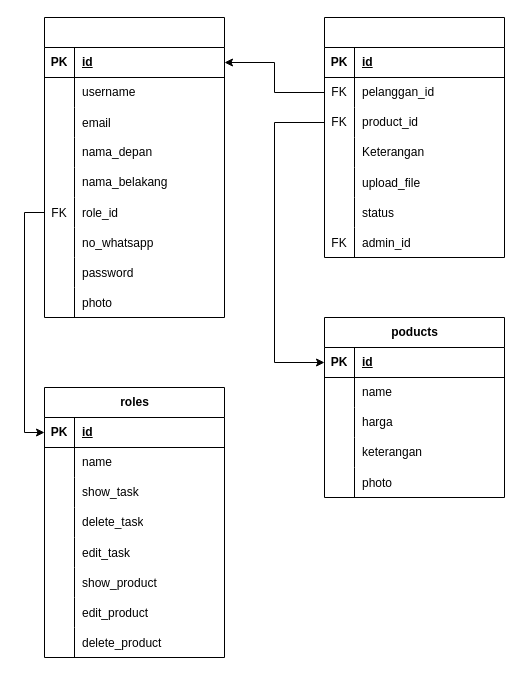
Image size: 522x675. Some labels were removed from this diagram. Each missing label, with the box of its shape:
tasks: (324, 16, 504, 258)
users: (44, 16, 224, 318)
